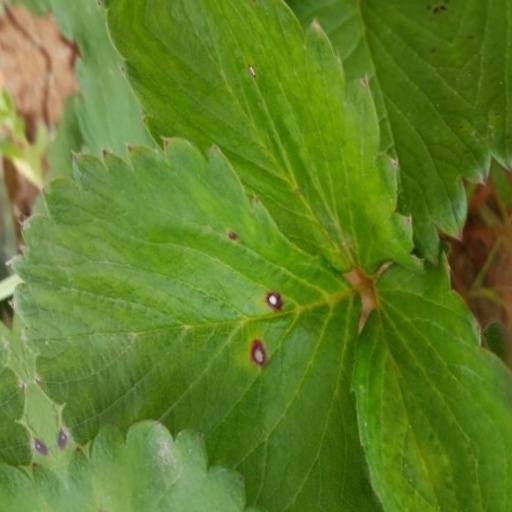Leaf Spot: (170, 96, 508, 511), (90, 0, 324, 331), (327, 363, 511, 511)
